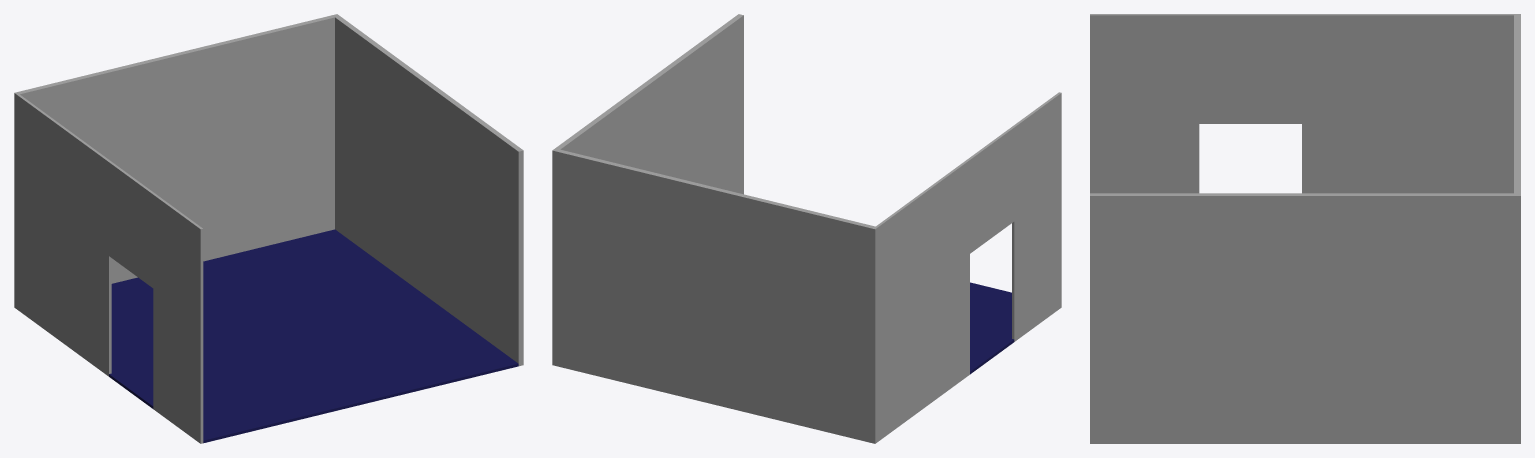
The model's file is 4x2 second-6.obj.
3 views of the same model, side by side, from view 1: azimuth 30°, elevation 25°; view 2: azimuth 150°, elevation 25°; view 3: azimuth 270°, elevation 25° (orthographic). The views are drawn at different scales.
Parts seen in each view (by area): view 1: 4x2 second-6; view 2: 4x2 second-6; view 3: 4x2 second-6.
Boxes of the visible parts, x1=… form: 4x2 second-6: x1=14, y1=14, x2=523, y2=443; 4x2 second-6: x1=552, y1=14, x2=1061, y2=443; 4x2 second-6: x1=1090, y1=14, x2=1520, y2=443.
Bounding box in the file's own units: 126 × 80 × 126.
Materials: 1 (1 with a texture image).
